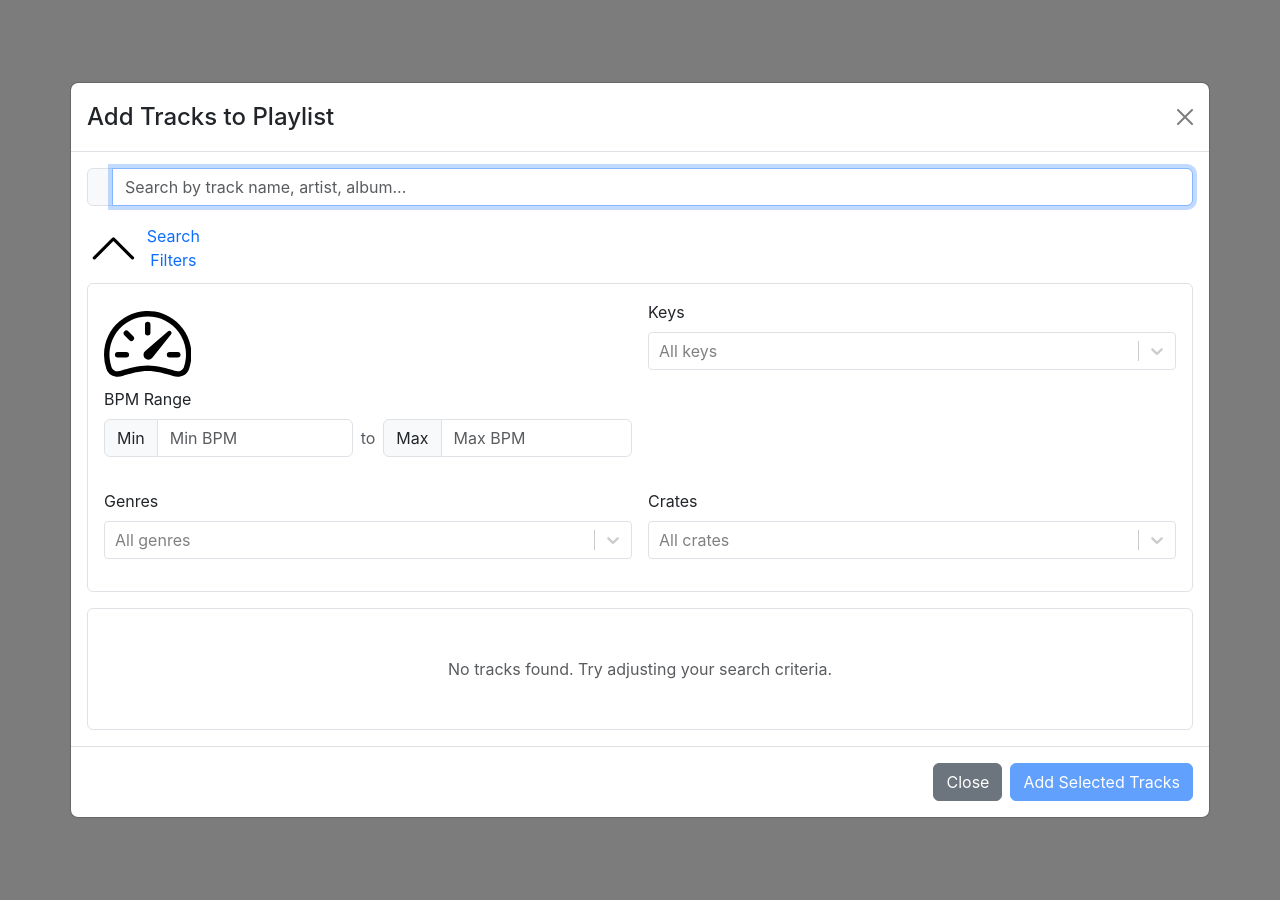
Test: TrackSearchModal › handles toggle all functionality
Type "Track" into the field with placeholder "Search by track name, artist, album...". click: {"x": 652, "y": 187}
box: [112,168,1193,206]
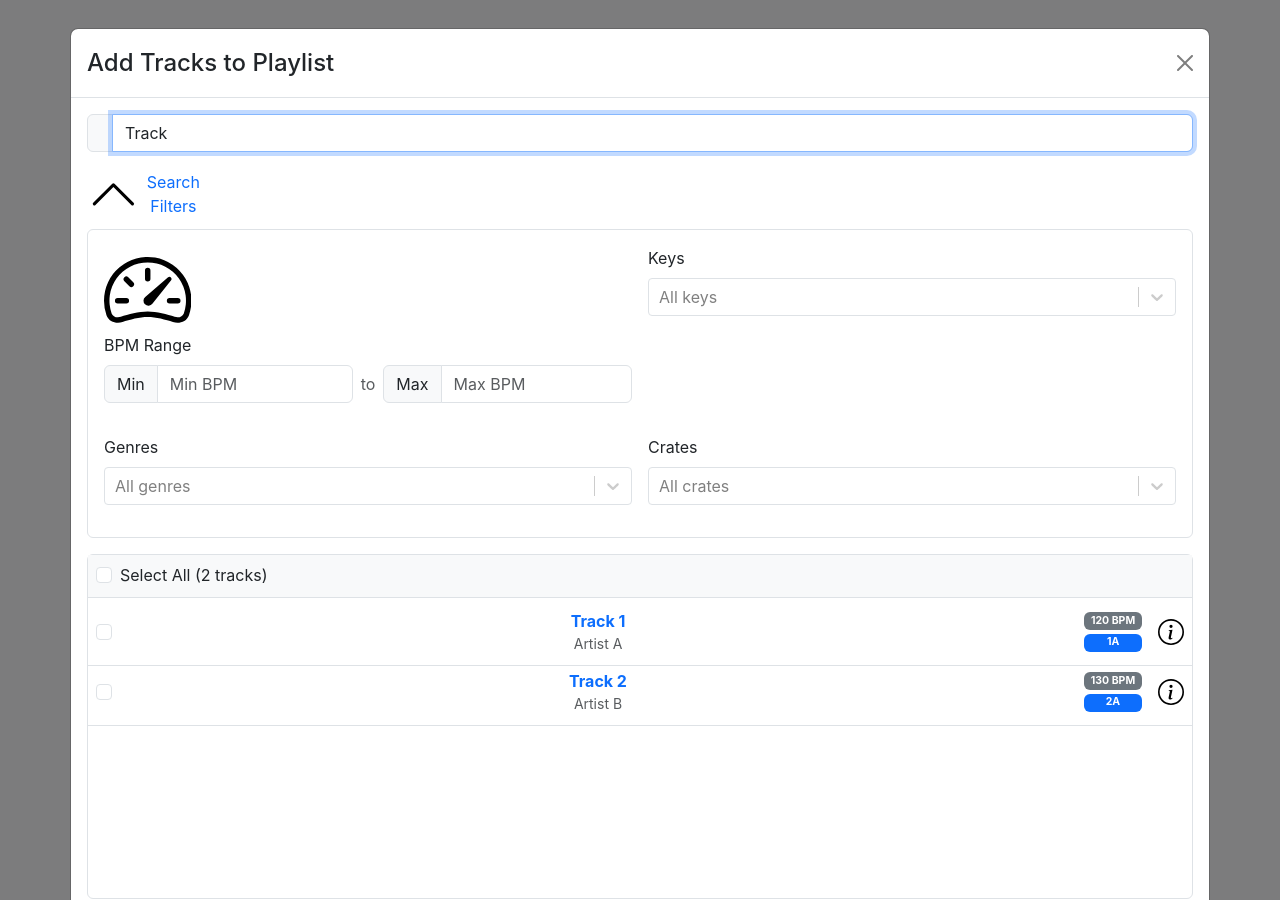
Check: the text "Track 1" is shown, box [571,611,626,631]
// Select all
Click the checkbox next to "Select All (2 tracks)". click: {"x": 104, "y": 575}
box: [96,567,112,583]
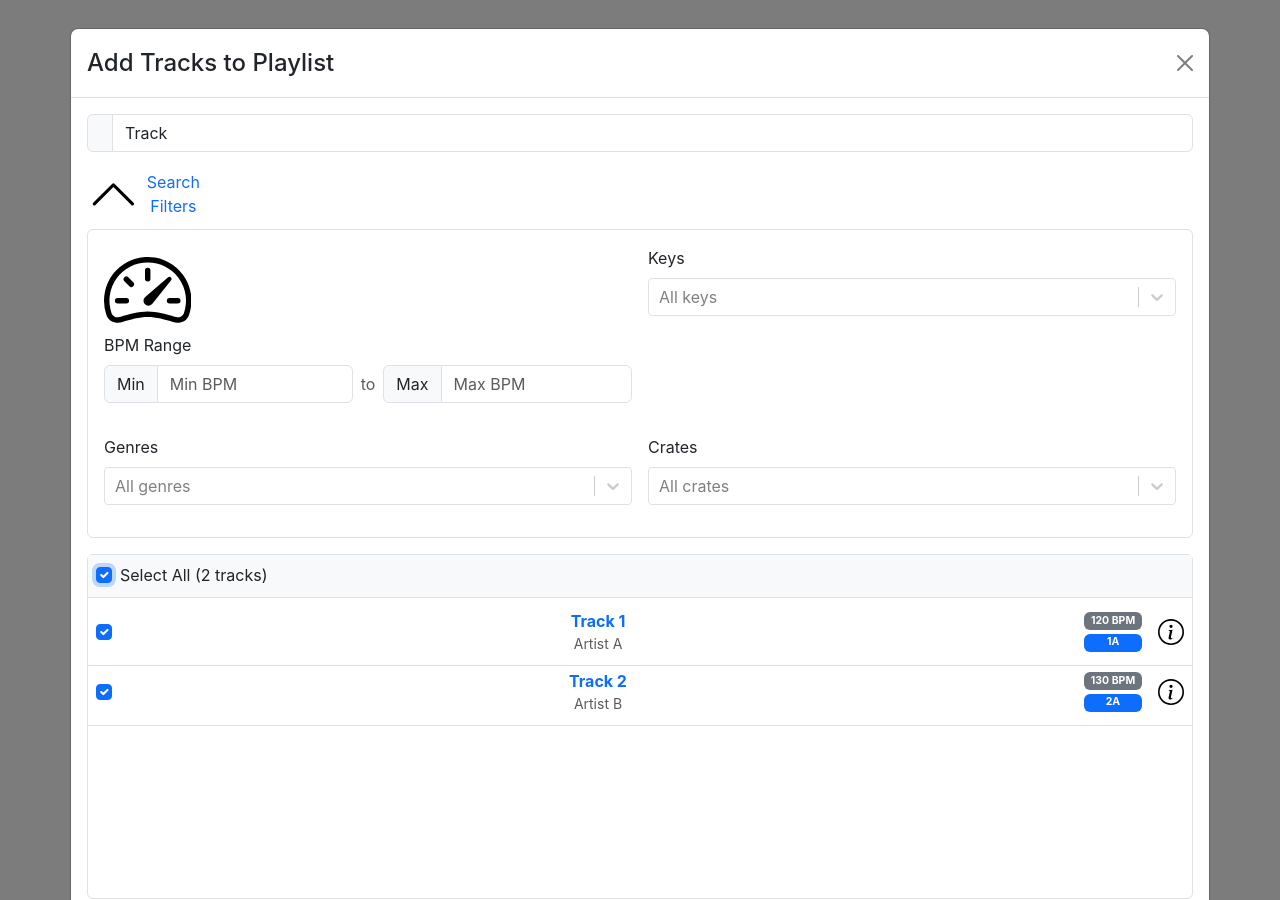
// Deselect all
Click the checkbox next to "Select All (2 tracks)". click: {"x": 104, "y": 575}
box: [96,567,112,583]
(page scrolled)
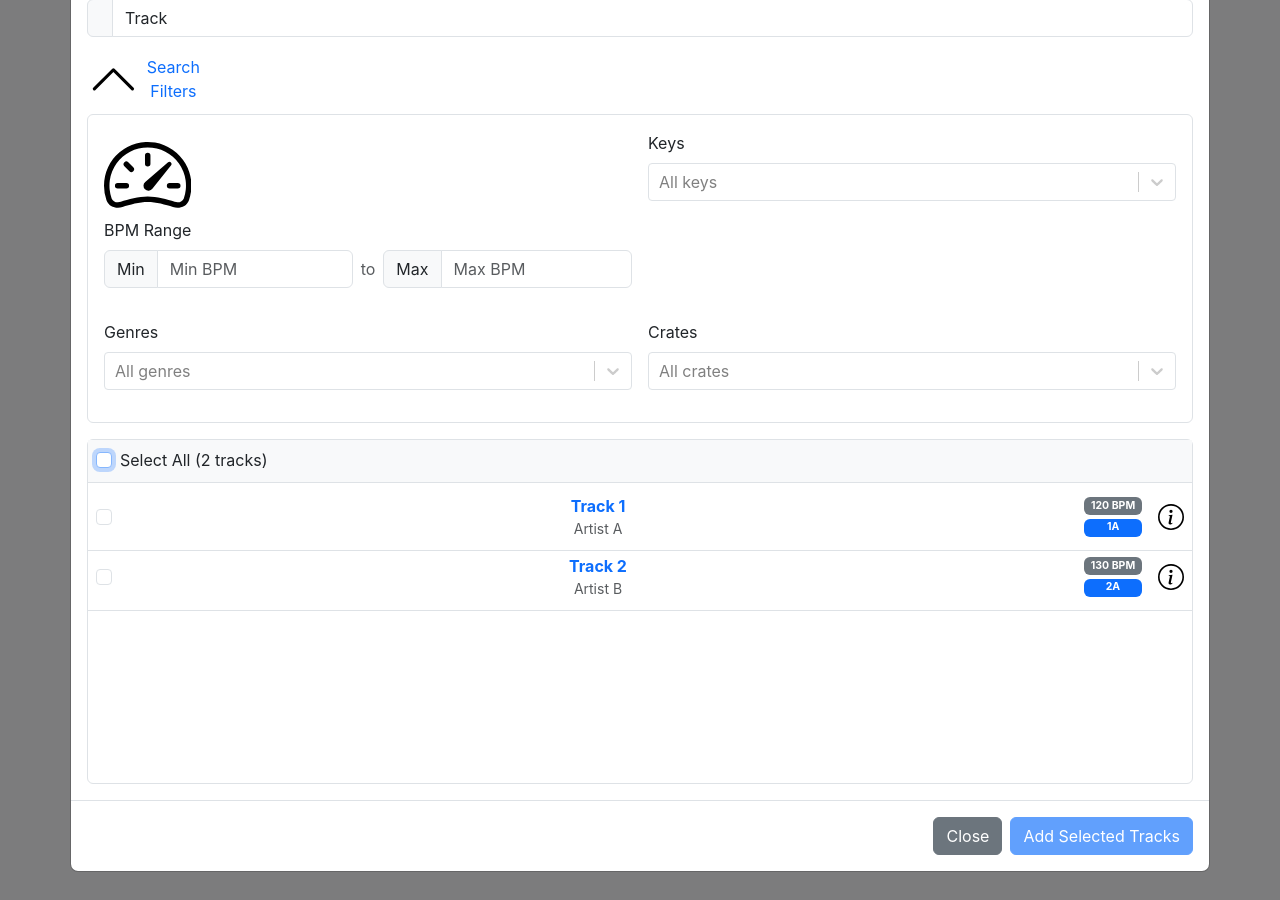
Check: the button "Add Selected Tracks" is disabled, box [1010,817,1193,855]
